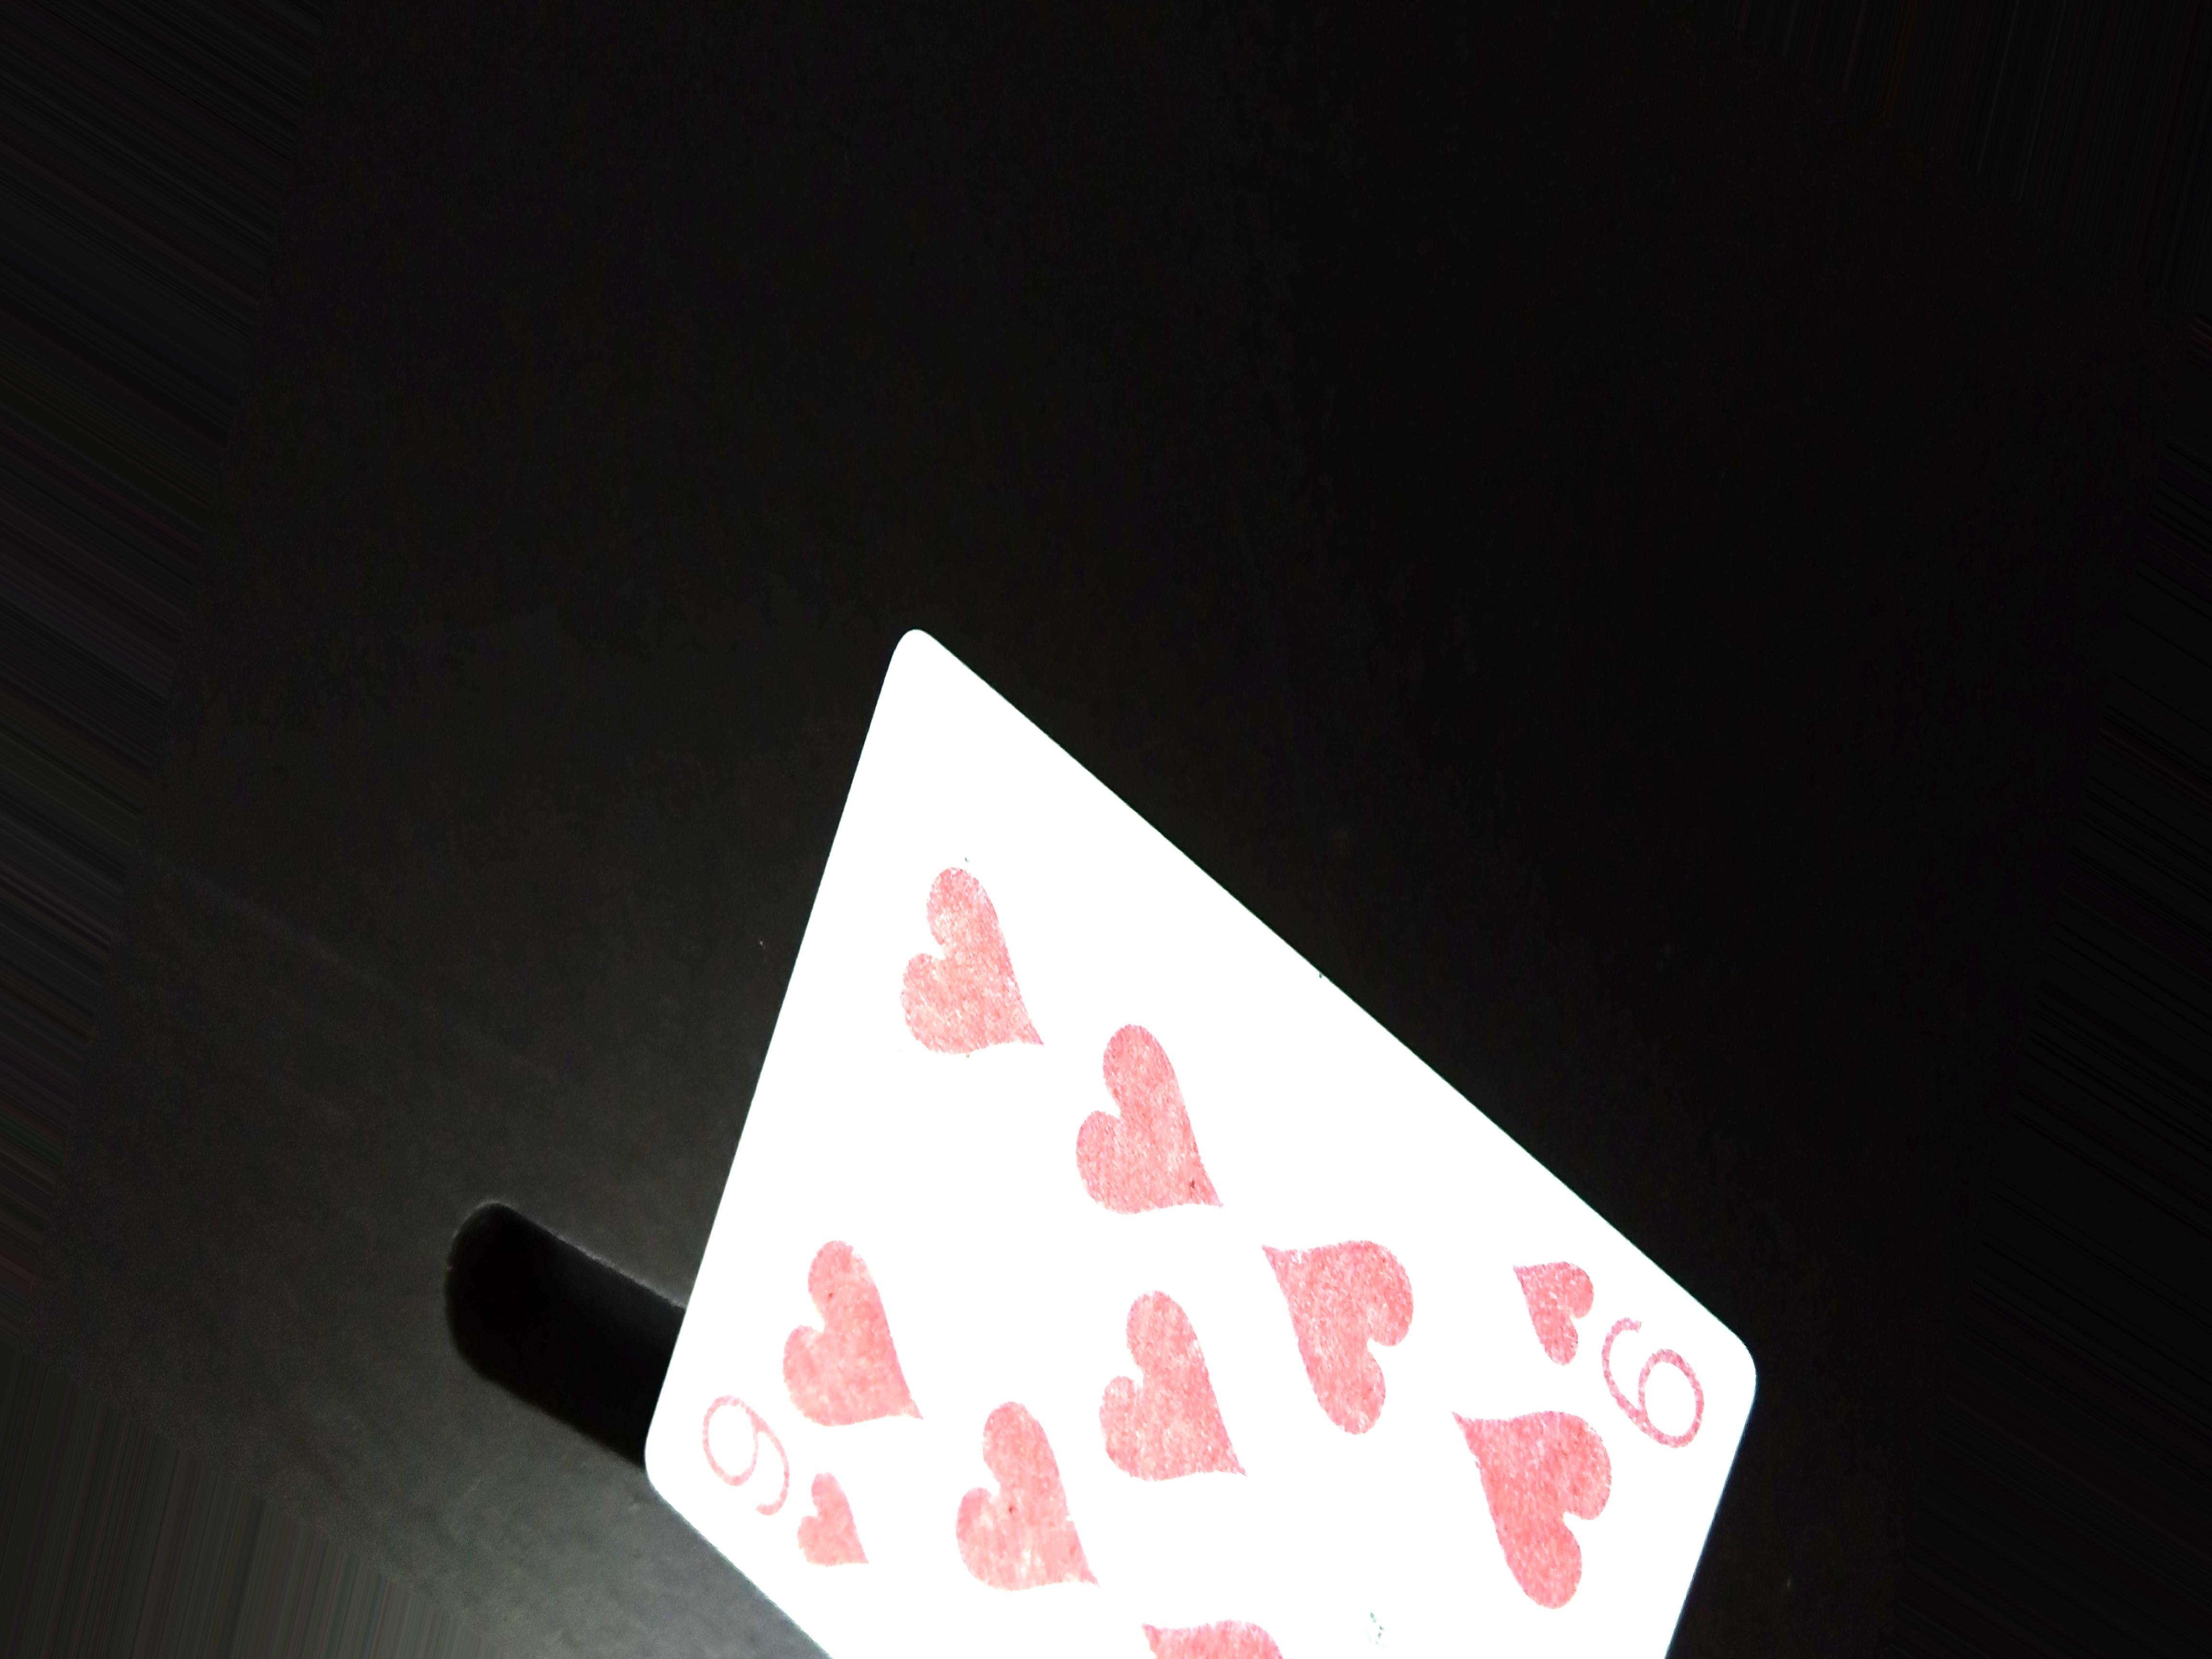9H: (1482, 1232, 1738, 1448)
